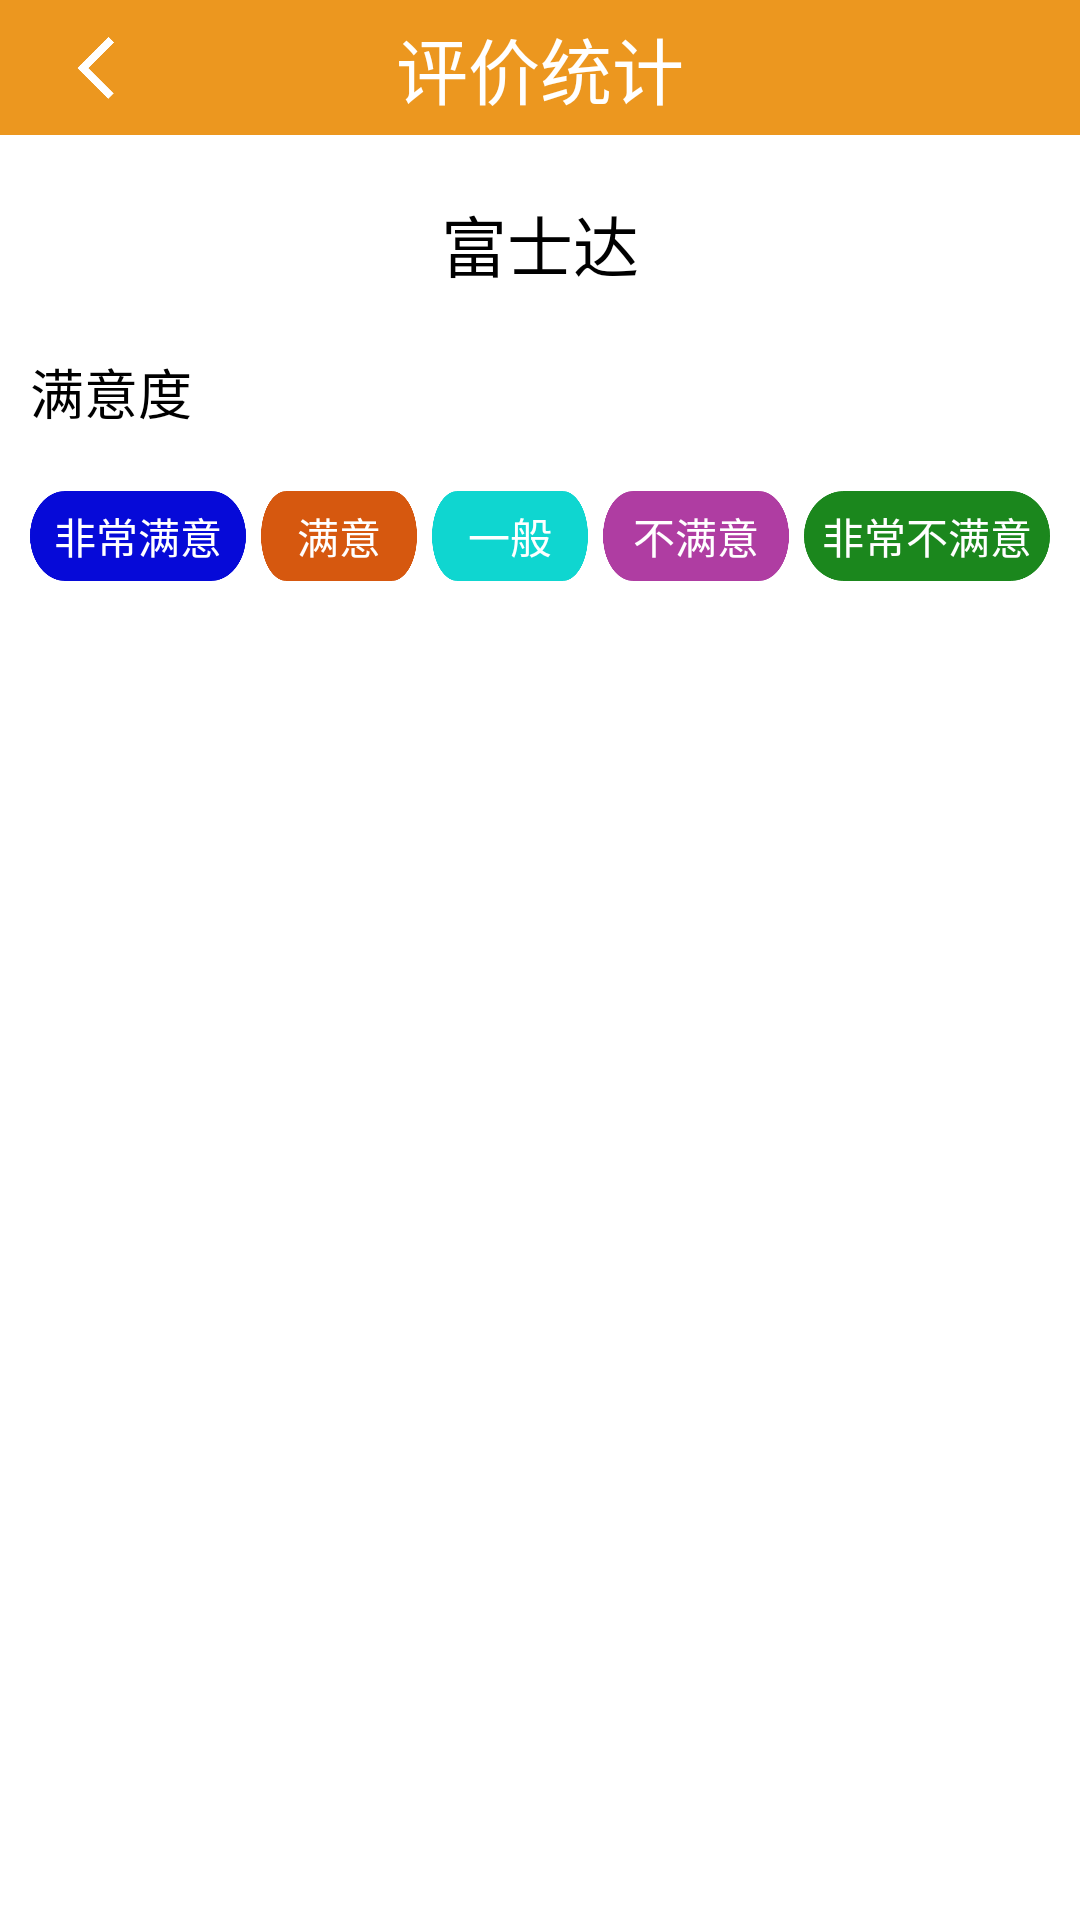

Screen size 1080px×1920px. Icon name, then its box in pixels as (x1, y1, x2, y2):
back: (78, 37, 114, 99)
